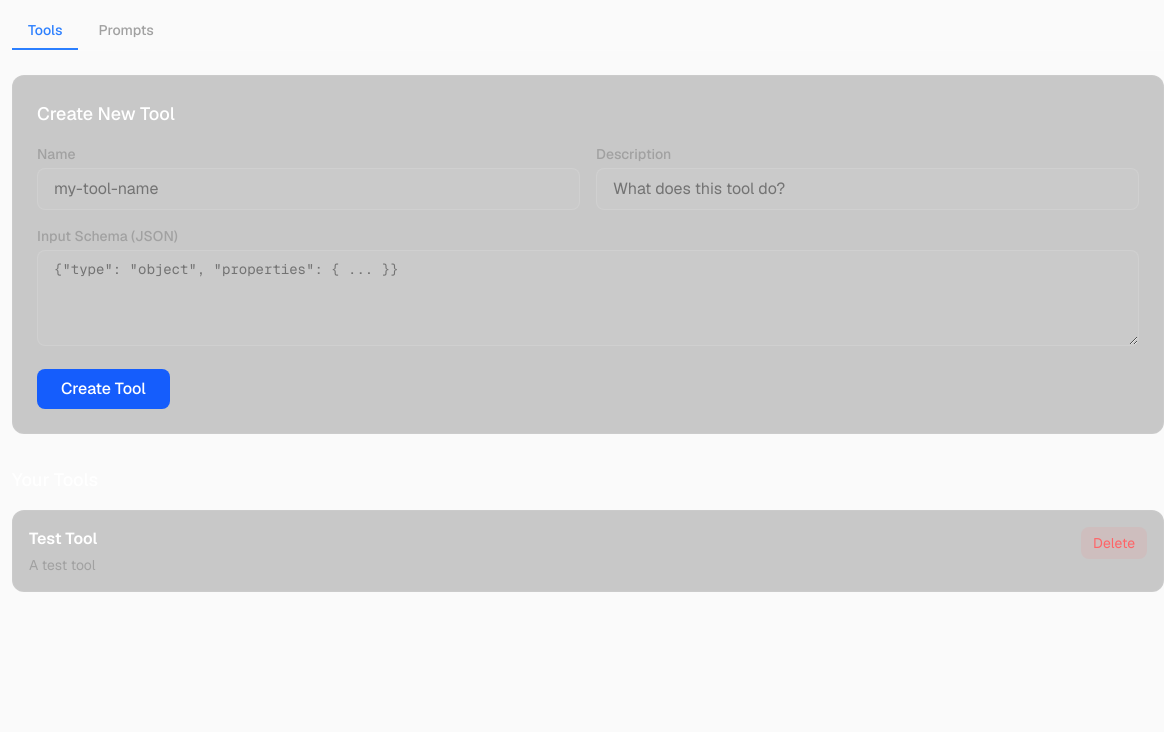
Test: McpDashboardClient › deletes a tool
Expected: the heading "Test Tool" is shown, [29, 527, 97, 551]
Step 1. Click the button "Delete" → (1114, 543), box [1081, 527, 1147, 559]
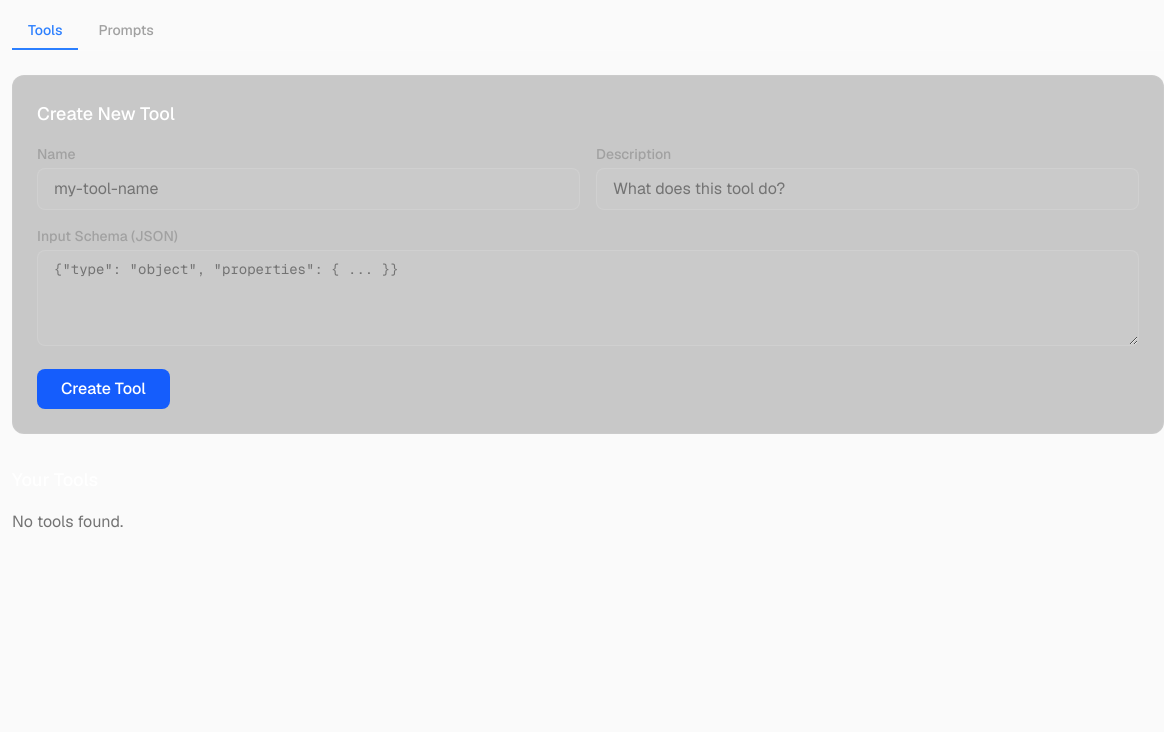
Result: the heading "Test Tool" is gone
